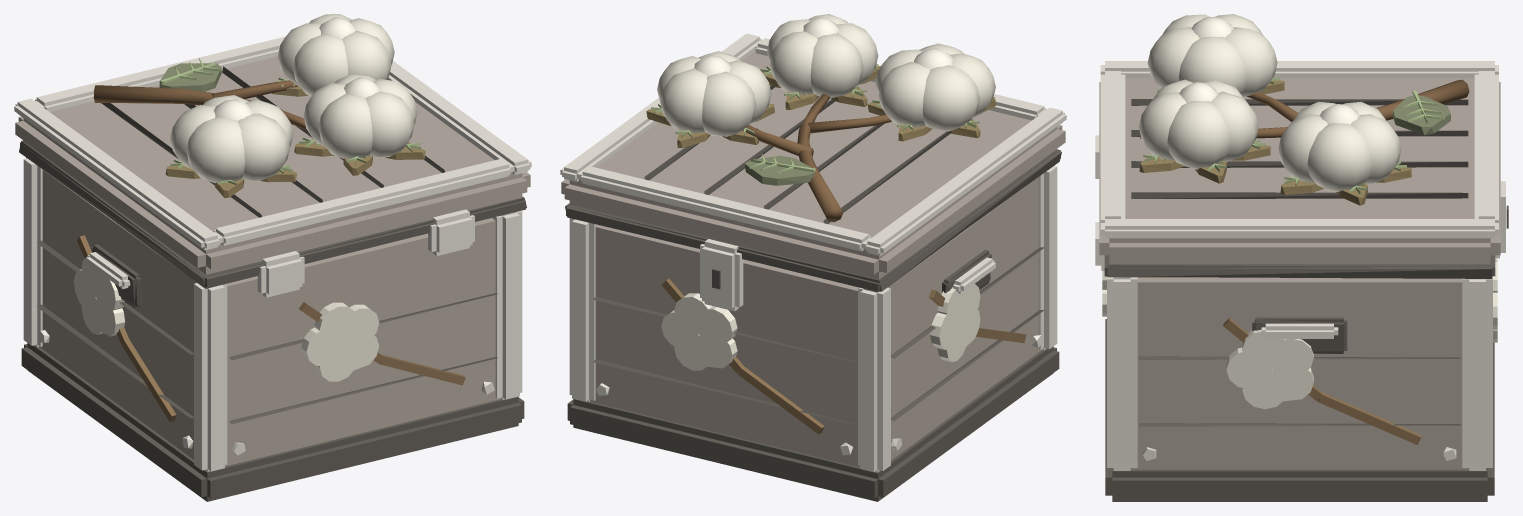
Rendered from crate_algodao.fbx.
3 views of the same model, side by side, from view 1: azimuth 30°, elevation 25°; view 2: azimuth 150°, elevation 25°; view 3: azimuth 270°, elevation 25° (orthographic). The views are drawn at different scales.
Visible parts, largest first — view 1: crate_algodao_caixa; view 2: crate_algodao_caixa; view 3: crate_algodao_caixa.
Part boxes in pixels (x1=…): crate_algodao_caixa: x1=14, y1=14, x2=531, y2=501; crate_algodao_caixa: x1=560, y1=14, x2=1066, y2=501; crate_algodao_caixa: x1=1095, y1=14, x2=1508, y2=501.
Size of the model in its own units: 2.68 by 2.61 by 2.7.
Materials: 1 (1 with a texture image).
